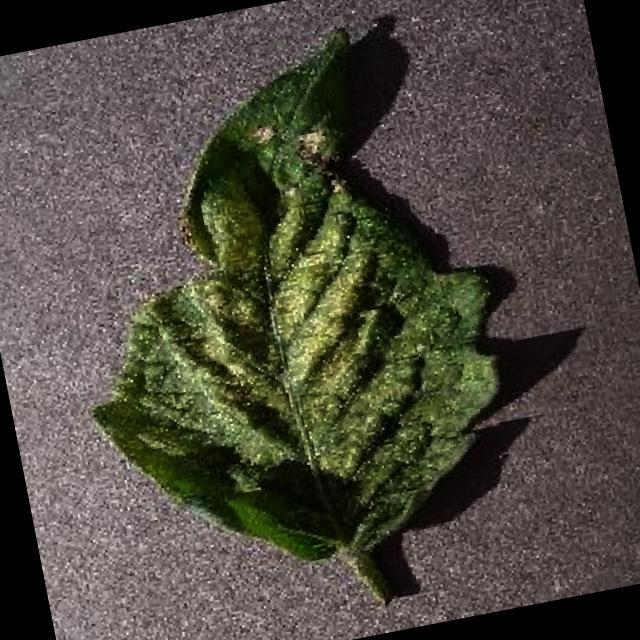Tomato spider mites leaf: (38, 12, 539, 592)
